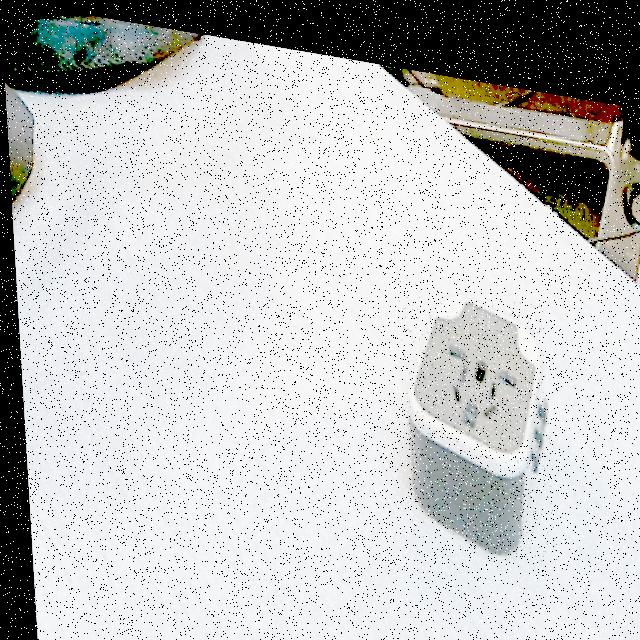adapter: (393, 267, 552, 546)
